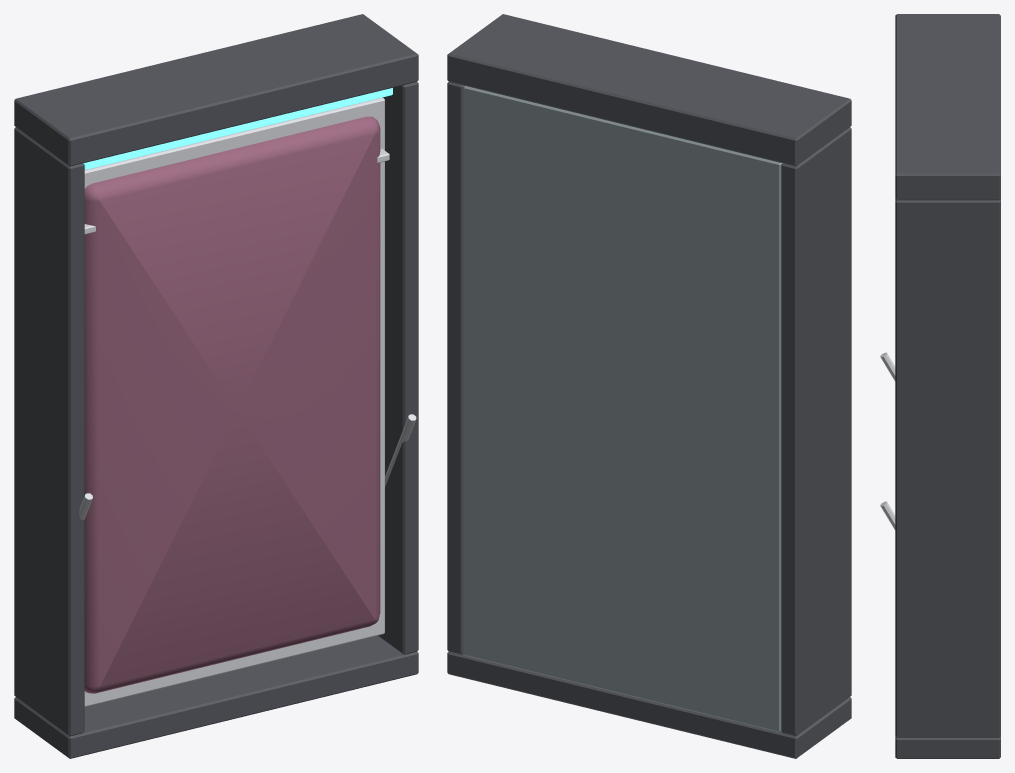
The model's file is cyberpunk-apartment-and-neon-block-fold-down-bed-3ad4fbe6__37805.glb.
The picture shows the model from 3 angles, left to right: view 1: azimuth 30°, elevation 25°; view 2: azimuth 150°, elevation 25°; view 3: azimuth 270°, elevation 25°; orthographic projection. The views are drawn at different scales.
Visible parts, largest first — view 1: bed/fabric, fold-down-bed, bed/metal; view 2: fold-down-bed; view 3: fold-down-bed.
Part boxes in pixels (x1,y1,x2,y2): bed/fabric: [84, 116, 380, 693]; fold-down-bed: [14, 14, 418, 758]; bed/metal: [84, 97, 384, 706]; fold-down-bed: [447, 14, 851, 758]; fold-down-bed: [880, 14, 1000, 758].
Bounding box in the file's own units: 1.3 × 2.2 × 0.4119.
